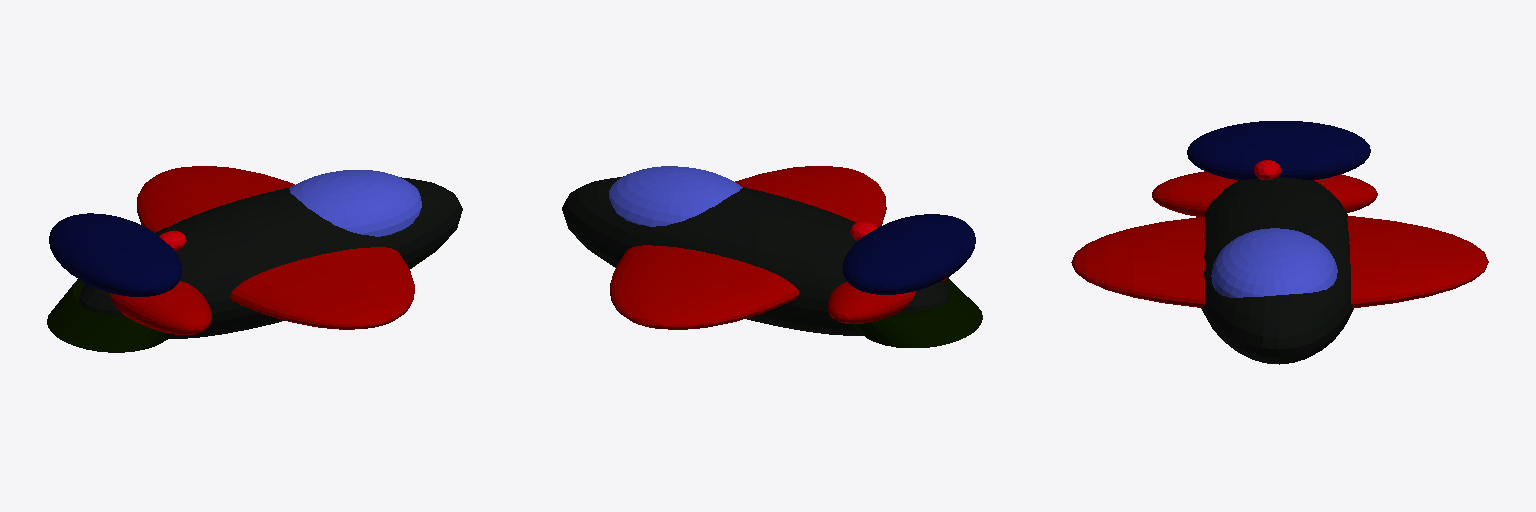
Rendered from mainShip.obj.
The picture shows the model from 3 angles: view 1: azimuth 30°, elevation 25°; view 2: azimuth 150°, elevation 25°; view 3: azimuth 270°, elevation 25°; orthographic projection.
Parts seen in each view (by area): view 1: Sphere.005, Sphere.004, Sphere.001_Sphere.001, Sphere_Sphere.006, Cylinder.001, Sphere.001_Sphere.008; view 2: Sphere.005, Sphere.004, Sphere.001_Sphere.001, Sphere_Sphere.006, Cylinder.001, Sphere.001_Sphere.008; view 3: Sphere.004, Sphere.005, Sphere.001_Sphere.001, Sphere_Sphere.006, Sphere.001_Sphere.008.
Part boxes in pixels (left/top/right/bottom): Sphere.005: left=79, top=177, right=462, bottom=339; Sphere.004: left=137, top=166, right=414, bottom=329; Sphere.001_Sphere.001: left=49, top=213, right=182, bottom=296; Sphere_Sphere.006: left=289, top=170, right=421, bottom=236; Cylinder.001: left=47, top=279, right=171, bottom=352; Sphere.001_Sphere.008: left=110, top=281, right=211, bottom=334; Sphere.005: left=562, top=176, right=949, bottom=335; Sphere.004: left=610, top=166, right=886, bottom=329; Sphere.001_Sphere.001: left=842, top=214, right=975, bottom=294; Sphere_Sphere.006: left=609, top=166, right=742, bottom=226; Cylinder.001: left=852, top=278, right=982, bottom=347; Sphere.001_Sphere.008: left=828, top=276, right=949, bottom=323; Sphere.004: left=1071, top=216, right=1488, bottom=307; Sphere.005: left=1201, top=177, right=1353, bottom=364; Sphere.001_Sphere.001: left=1187, top=121, right=1370, bottom=180; Sphere_Sphere.006: left=1211, top=228, right=1337, bottom=297; Sphere.001_Sphere.008: left=1152, top=171, right=1377, bottom=216.
Size of the model in its own units: 11.77 by 3.13 by 10.54.